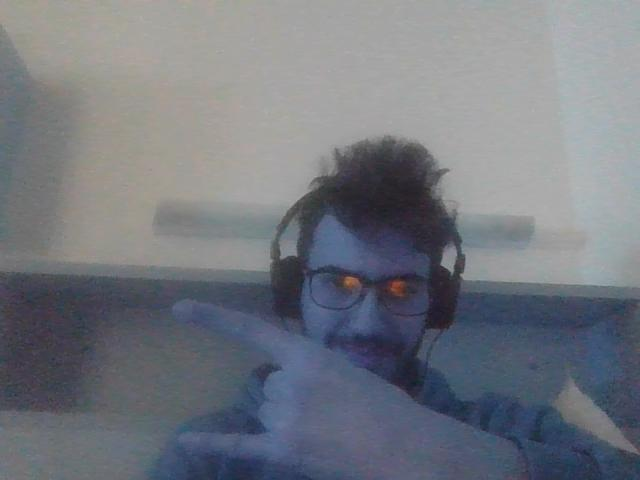iloveyou: (169, 294, 350, 480)
